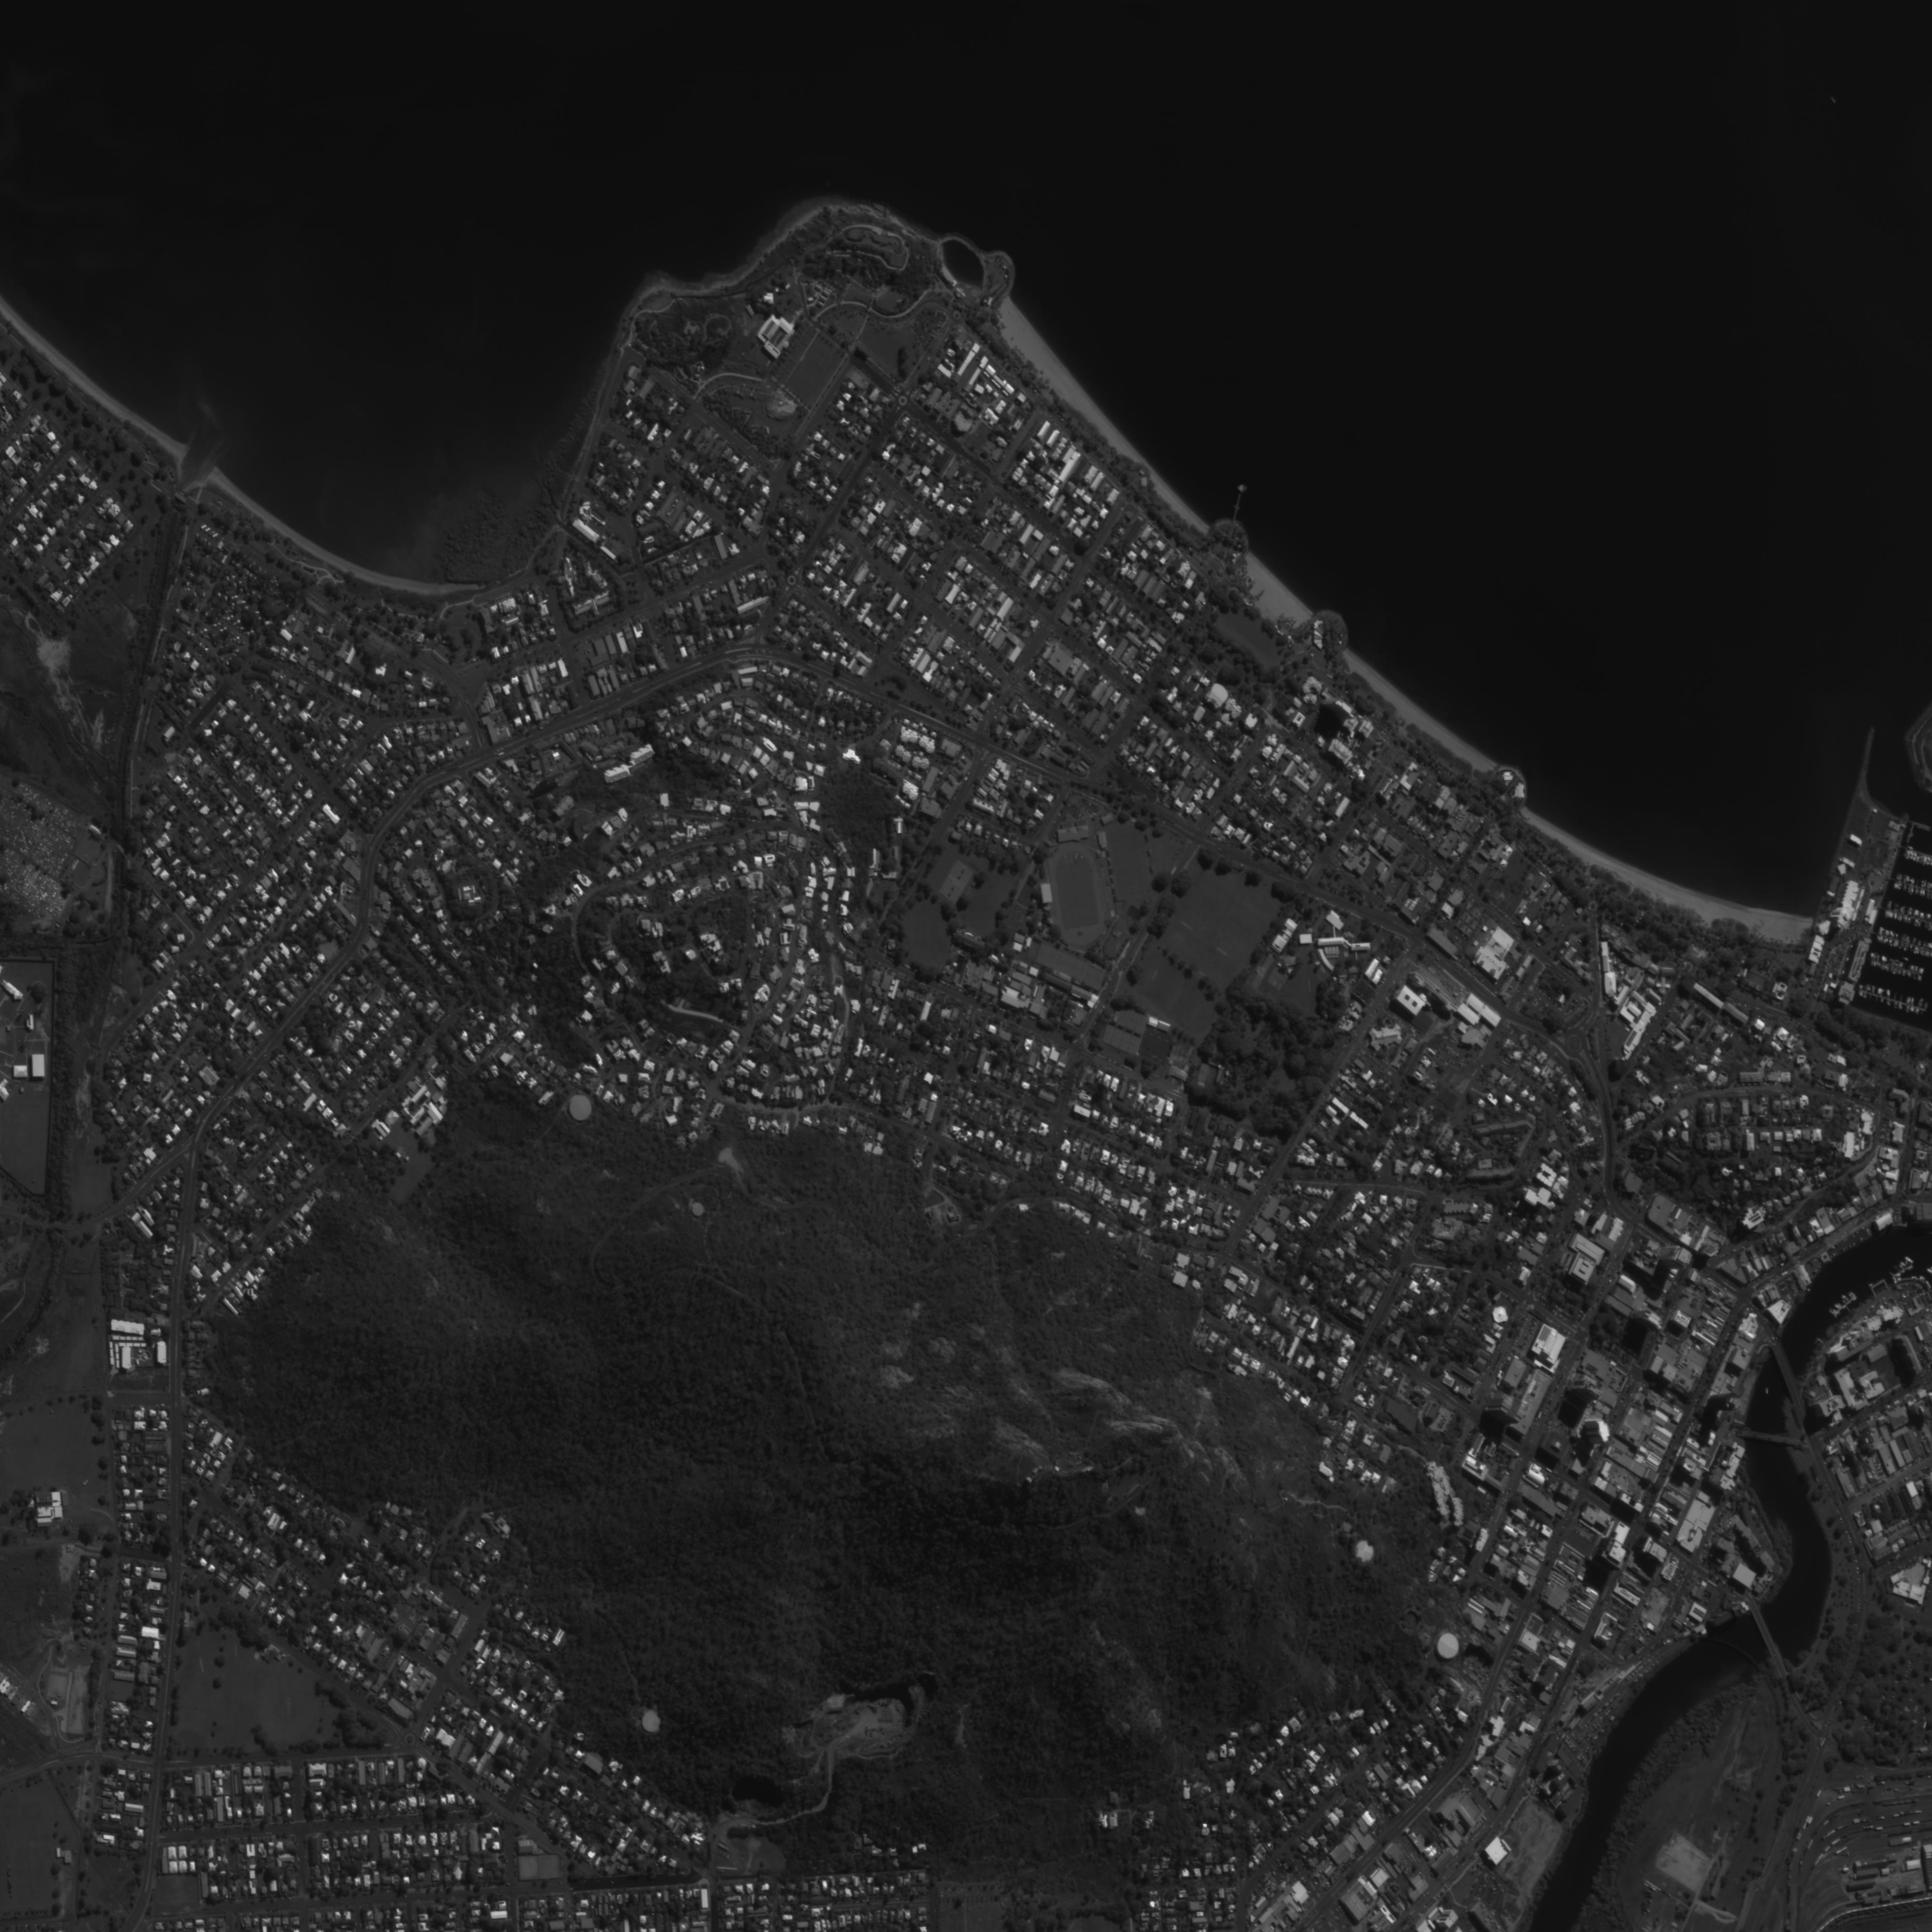harbor: (1856, 978, 1930, 1023), (1865, 945, 1928, 984), (1874, 924, 1932, 959), (1879, 895, 1932, 932), (1890, 869, 1932, 901), (1824, 1286, 1861, 1322), (1886, 1260, 1925, 1288), (1897, 840, 1932, 869)
